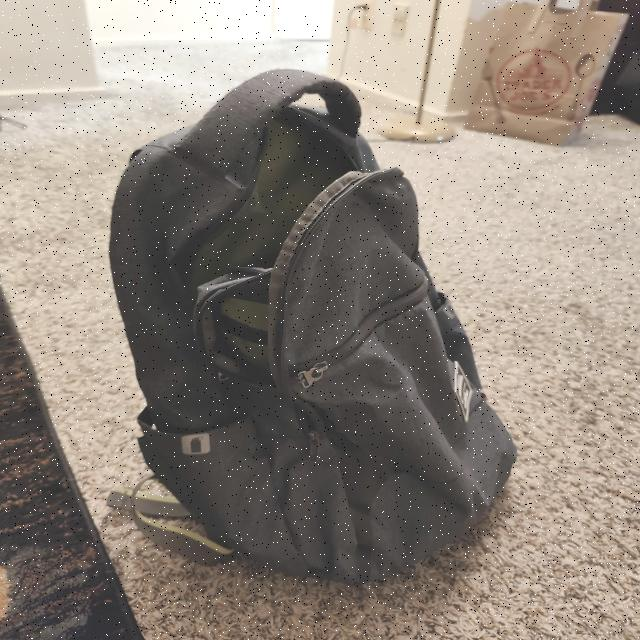bag: (157, 151, 479, 529)
